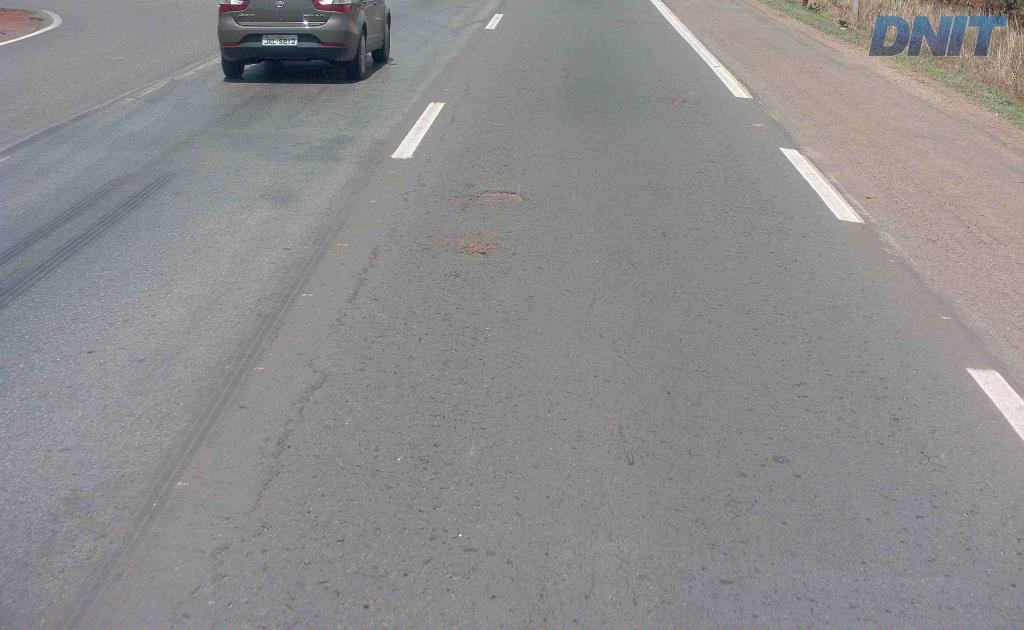pothole: (461, 184, 531, 207)
